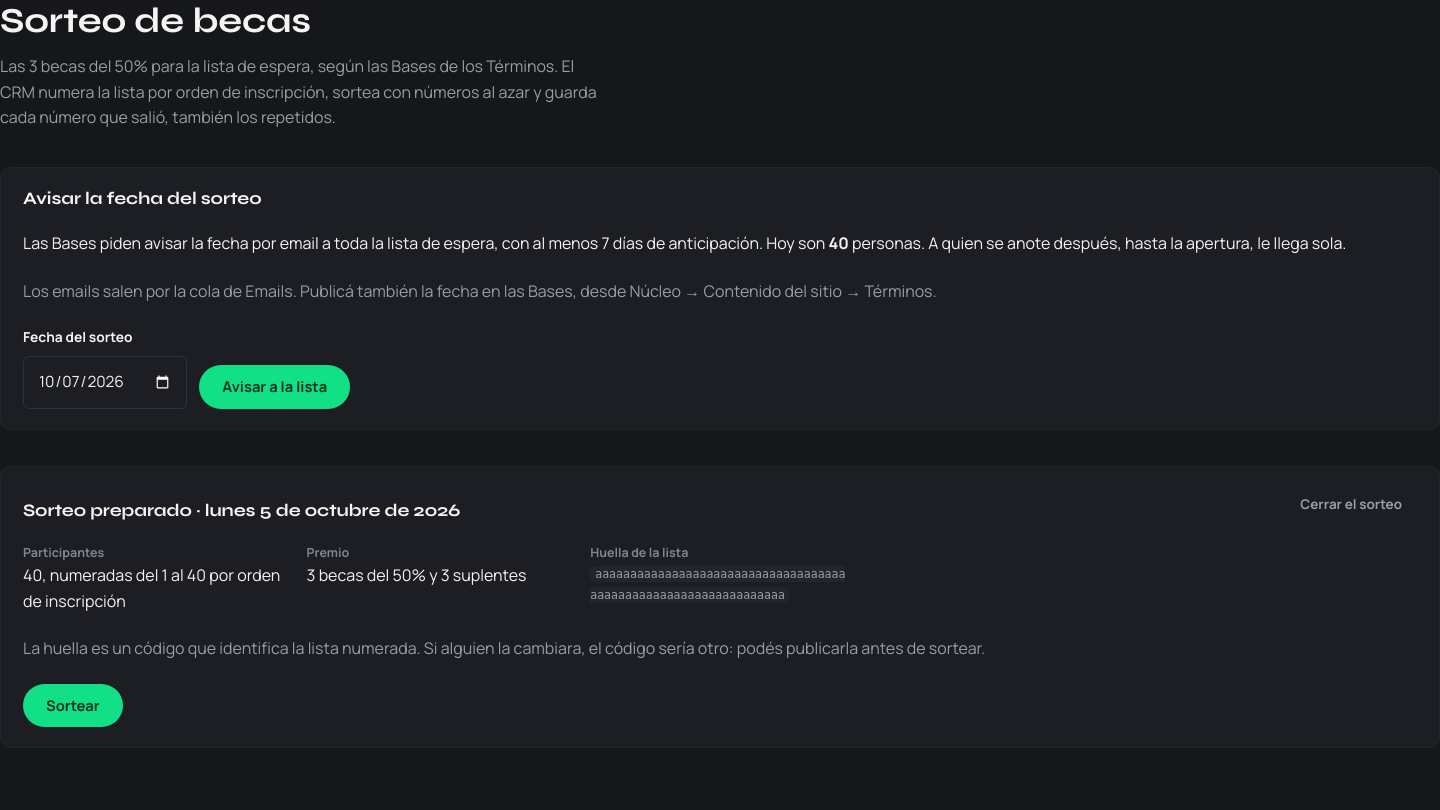
Scenario: RafflePage › sortea con confirmación y abre la pantalla con solo números
Click the button "Sortear".
click(73, 706)  # box [23, 684, 123, 728]
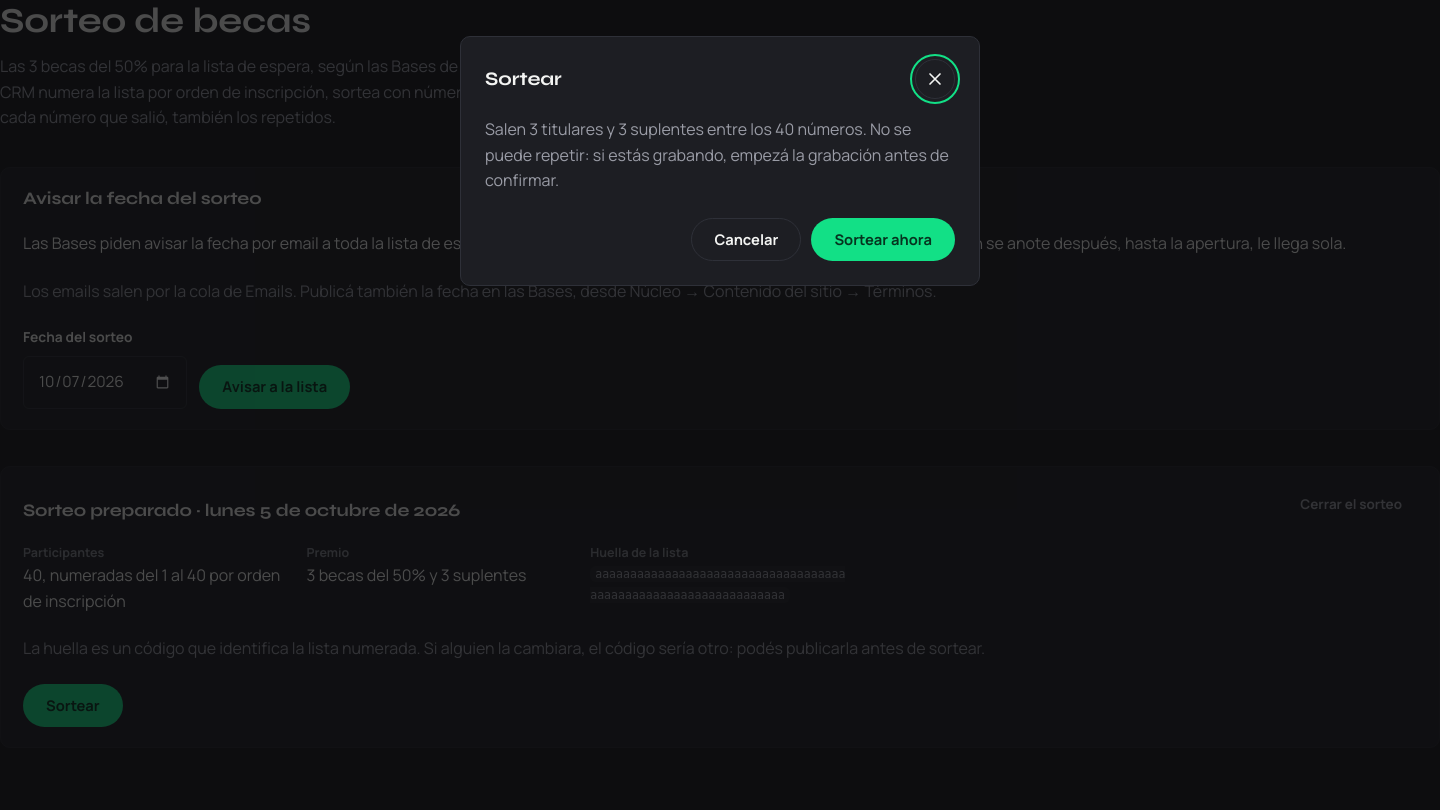
Click the button "Sortear ahora".
click(883, 240)  # box [811, 218, 955, 262]
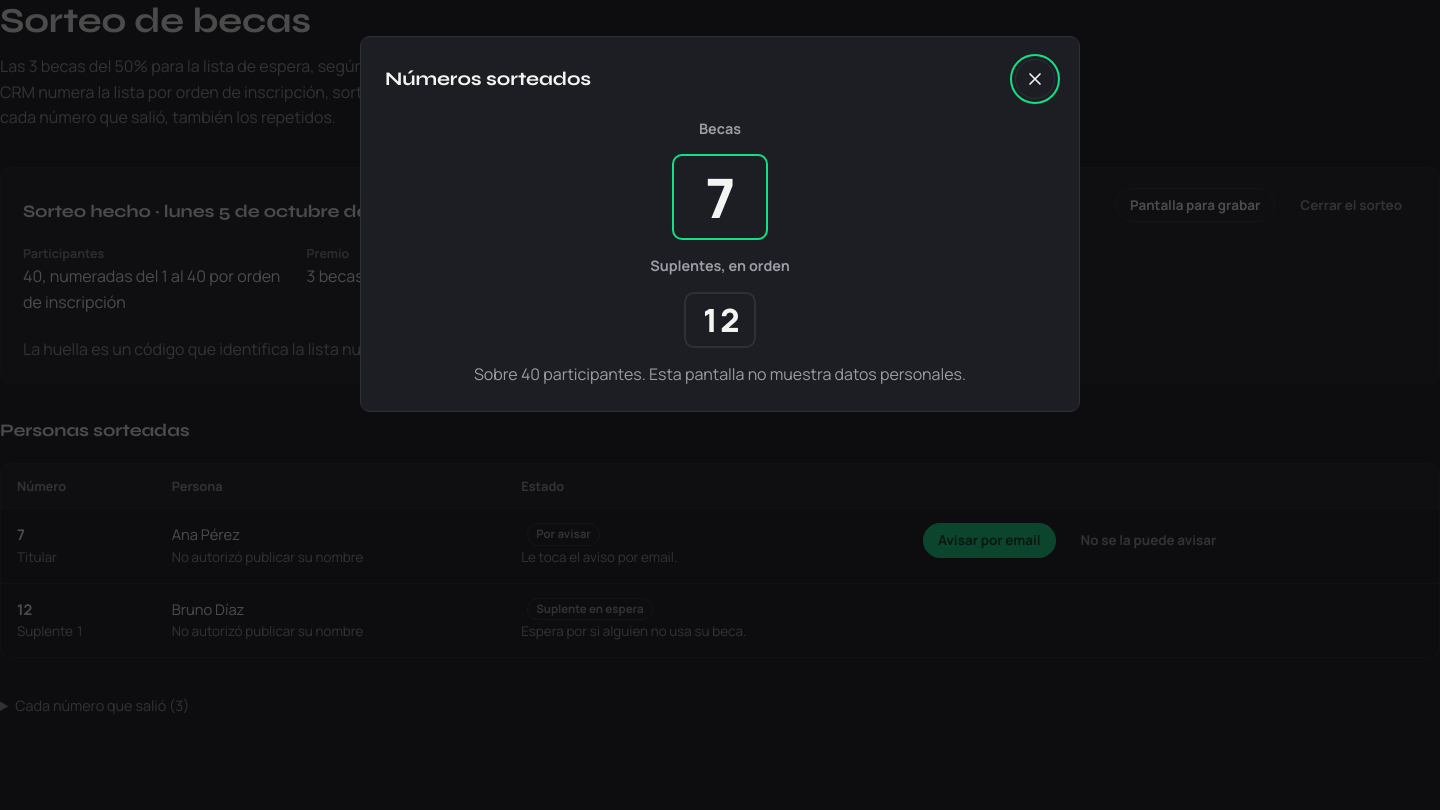
Now the list item "7" is shown, box [672, 154, 768, 240]
Now the list item "12" is shown, box [684, 292, 756, 348]
